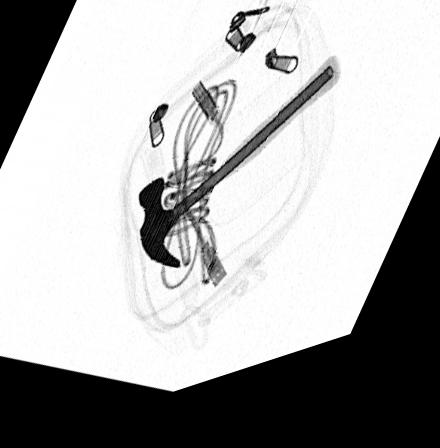Hammer: (137, 76, 342, 280)
